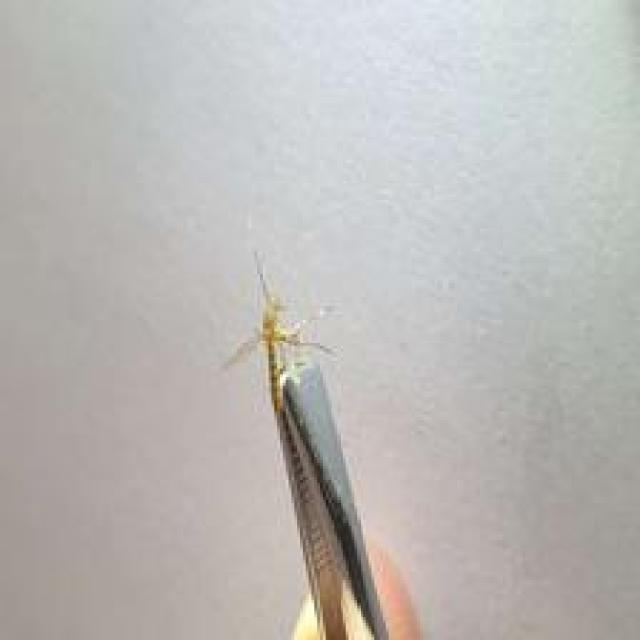Culex: (218, 248, 410, 640)
